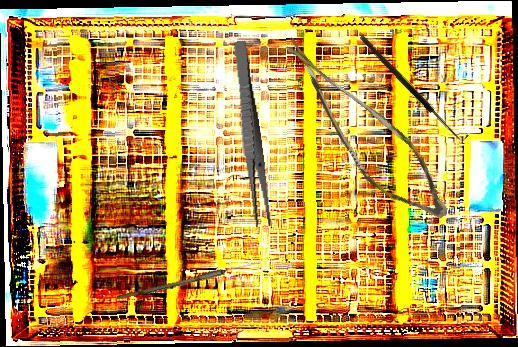Dressing Forceps: (227, 40, 274, 228)
Hook Surgical: (358, 29, 470, 145)
Micro Scissor: (247, 35, 475, 230)
Surgical Spoon: (116, 257, 262, 304)
